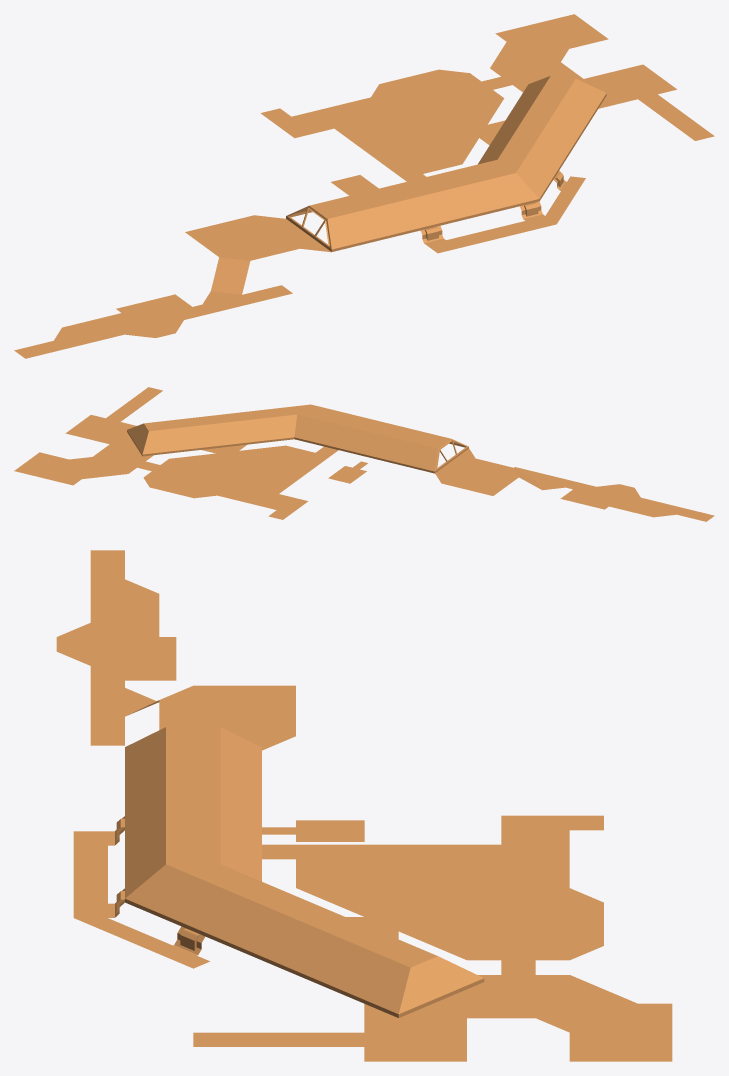
Rendered from Encounter_002_Roof.fbx.
3 views of the same model, one above another, from view 1: azimuth 30°, elevation 25°; view 2: azimuth 150°, elevation 25°; view 3: azimuth 270°, elevation 25° (orthographic). The views are drawn at different scales.
Parts seen in each view (by area): view 1: Encounter_002_Roof; view 2: Encounter_002_Roof; view 3: Encounter_002_Roof.
Boxes of the visible parts, x1=… form: Encounter_002_Roof: x1=14, y1=14, x2=714, y2=358; Encounter_002_Roof: x1=14, y1=387, x2=714, y2=521; Encounter_002_Roof: x1=56, y1=550, x2=672, y2=1061.
Bounding box in the file's own units: 15000 × 800 × 7200.
